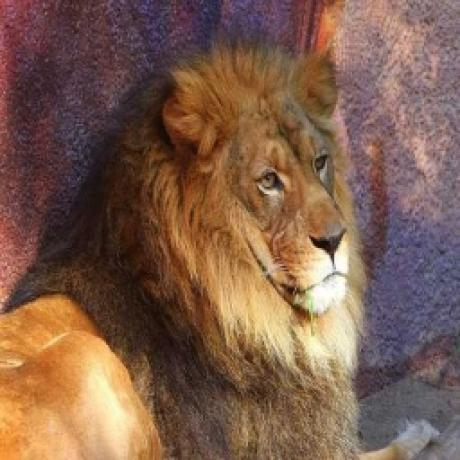Lion: (0, 35, 438, 458)
